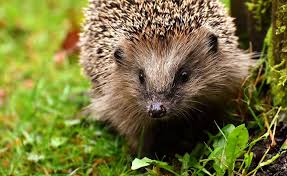hedgehog: (83, 1, 247, 153)
